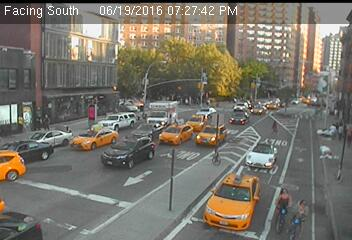neg: (261, 186, 297, 233), (283, 195, 315, 238), (206, 139, 227, 166), (335, 159, 351, 181)
pos: (42, 108, 55, 127), (267, 117, 280, 135), (337, 122, 349, 138), (327, 122, 339, 137)
